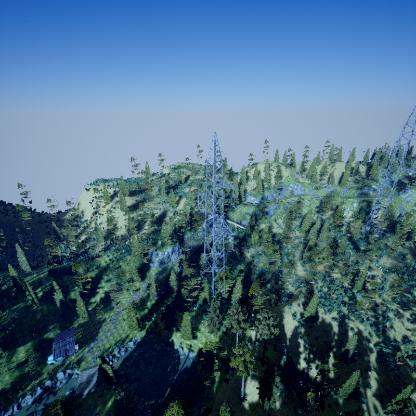tower: (191, 125, 236, 300)
